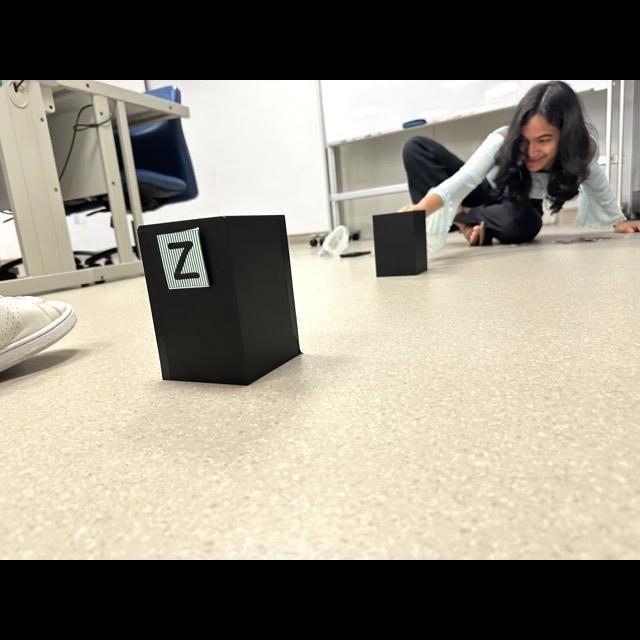Z: (168, 241, 199, 279)
